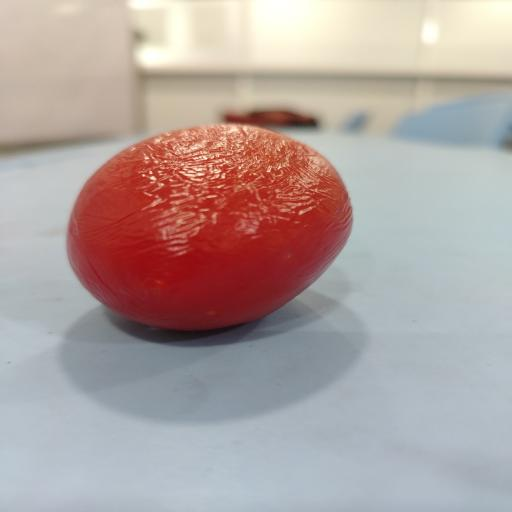spoiled: (67, 125, 352, 330)
